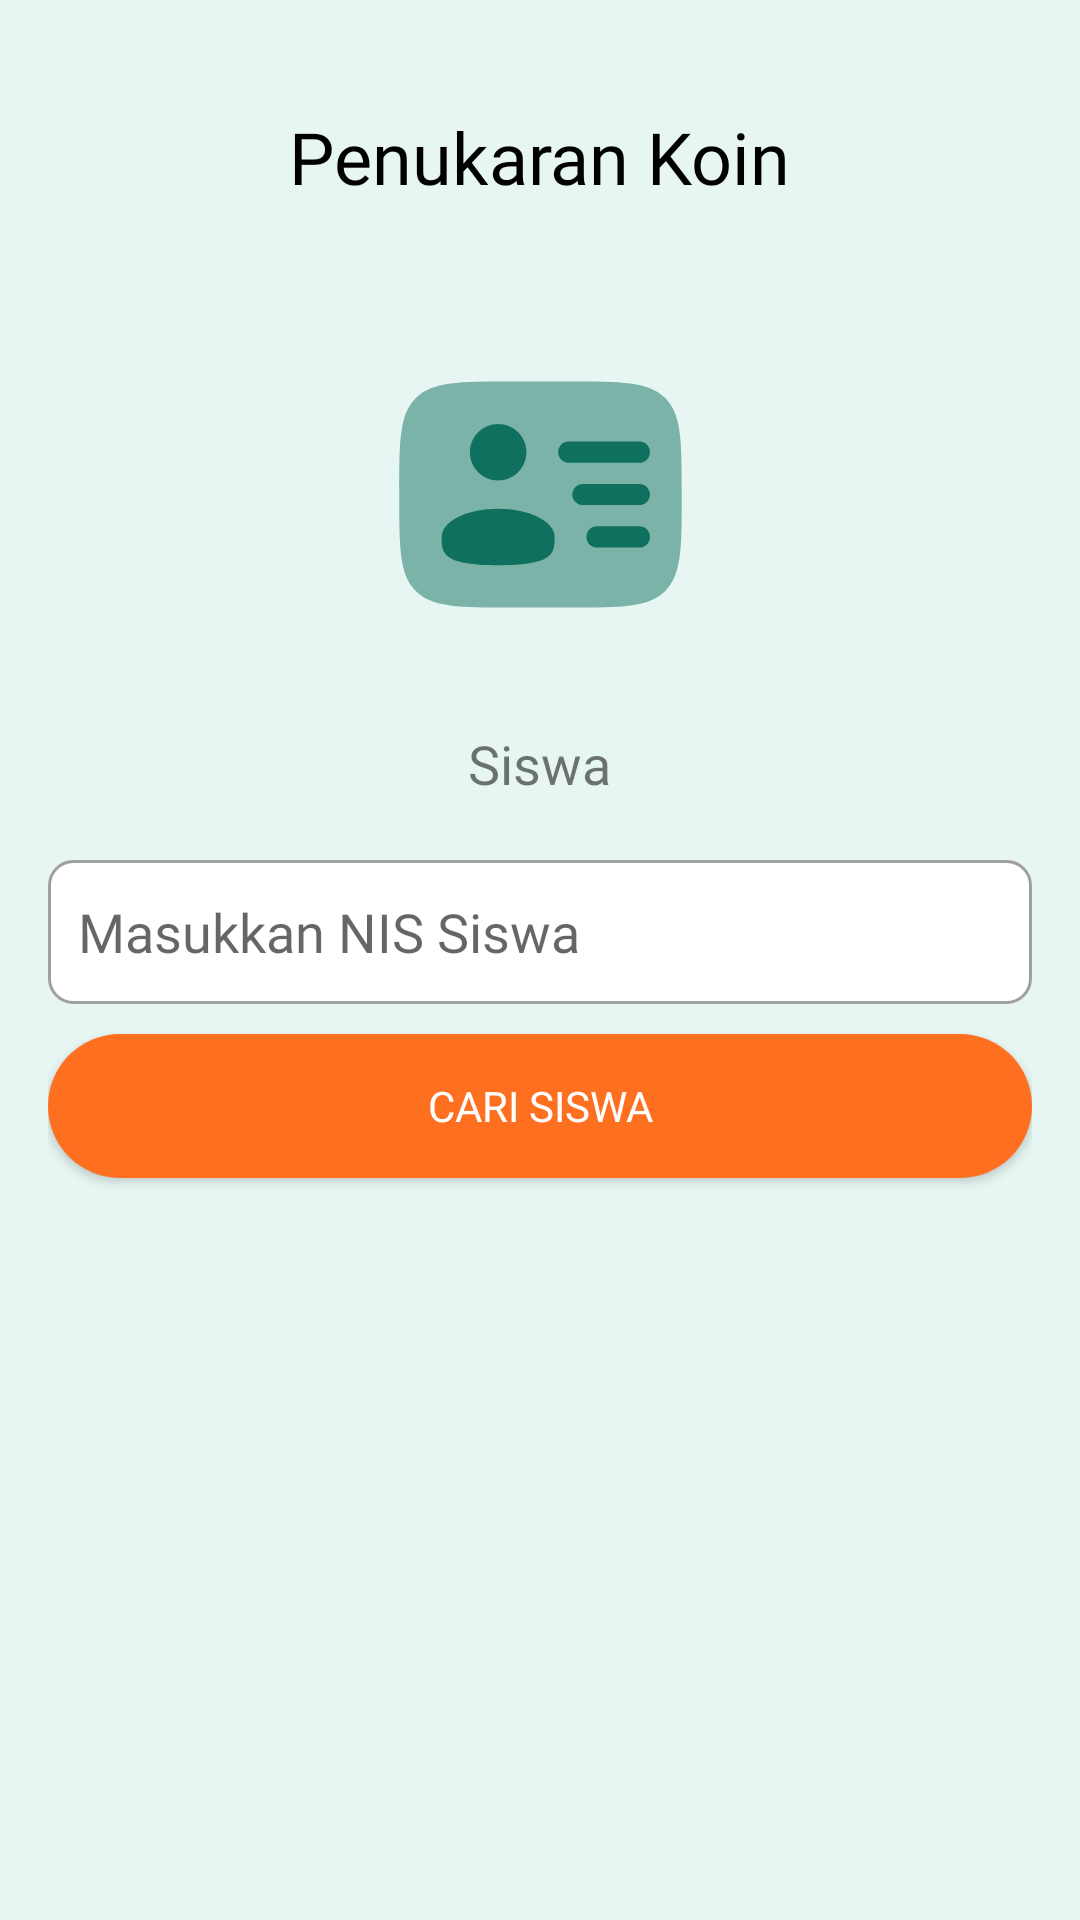

Named icons in this screenshot (1080px×1920px) and their centers, (x,y):
user id: (540,494)
